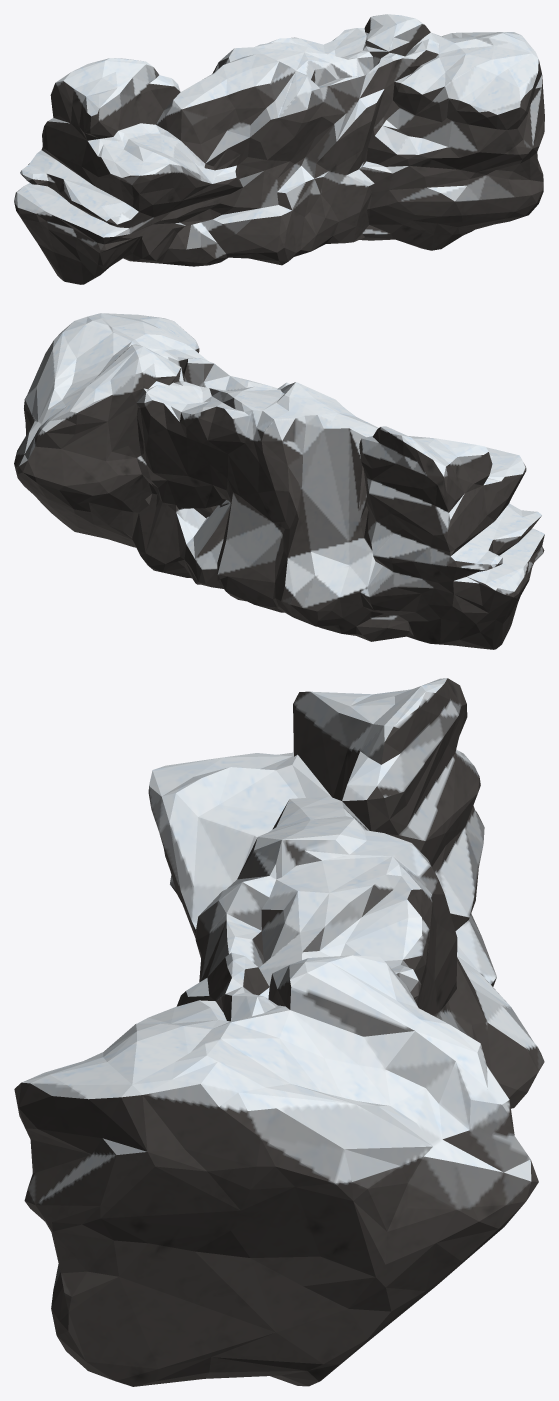
Rendered from cliff_02.gltf.
The picture shows the model from 3 angles, top to bottom: view 1: azimuth 30°, elevation 25°; view 2: azimuth 150°, elevation 25°; view 3: azimuth 270°, elevation 25°; orthographic projection. The views are drawn at different scales.
Visible parts, largest first — view 1: cliff_02; view 2: cliff_02; view 3: cliff_02.
Part boxes in pixels (box(x1,y1,x2,y2)): cliff_02: box(14, 14, 544, 284); cliff_02: box(14, 313, 544, 649); cliff_02: box(14, 678, 544, 1386).
Bounding box in the file's own units: 24.49 × 10.36 × 12.06.
Materials: 1 (1 with a texture image).
